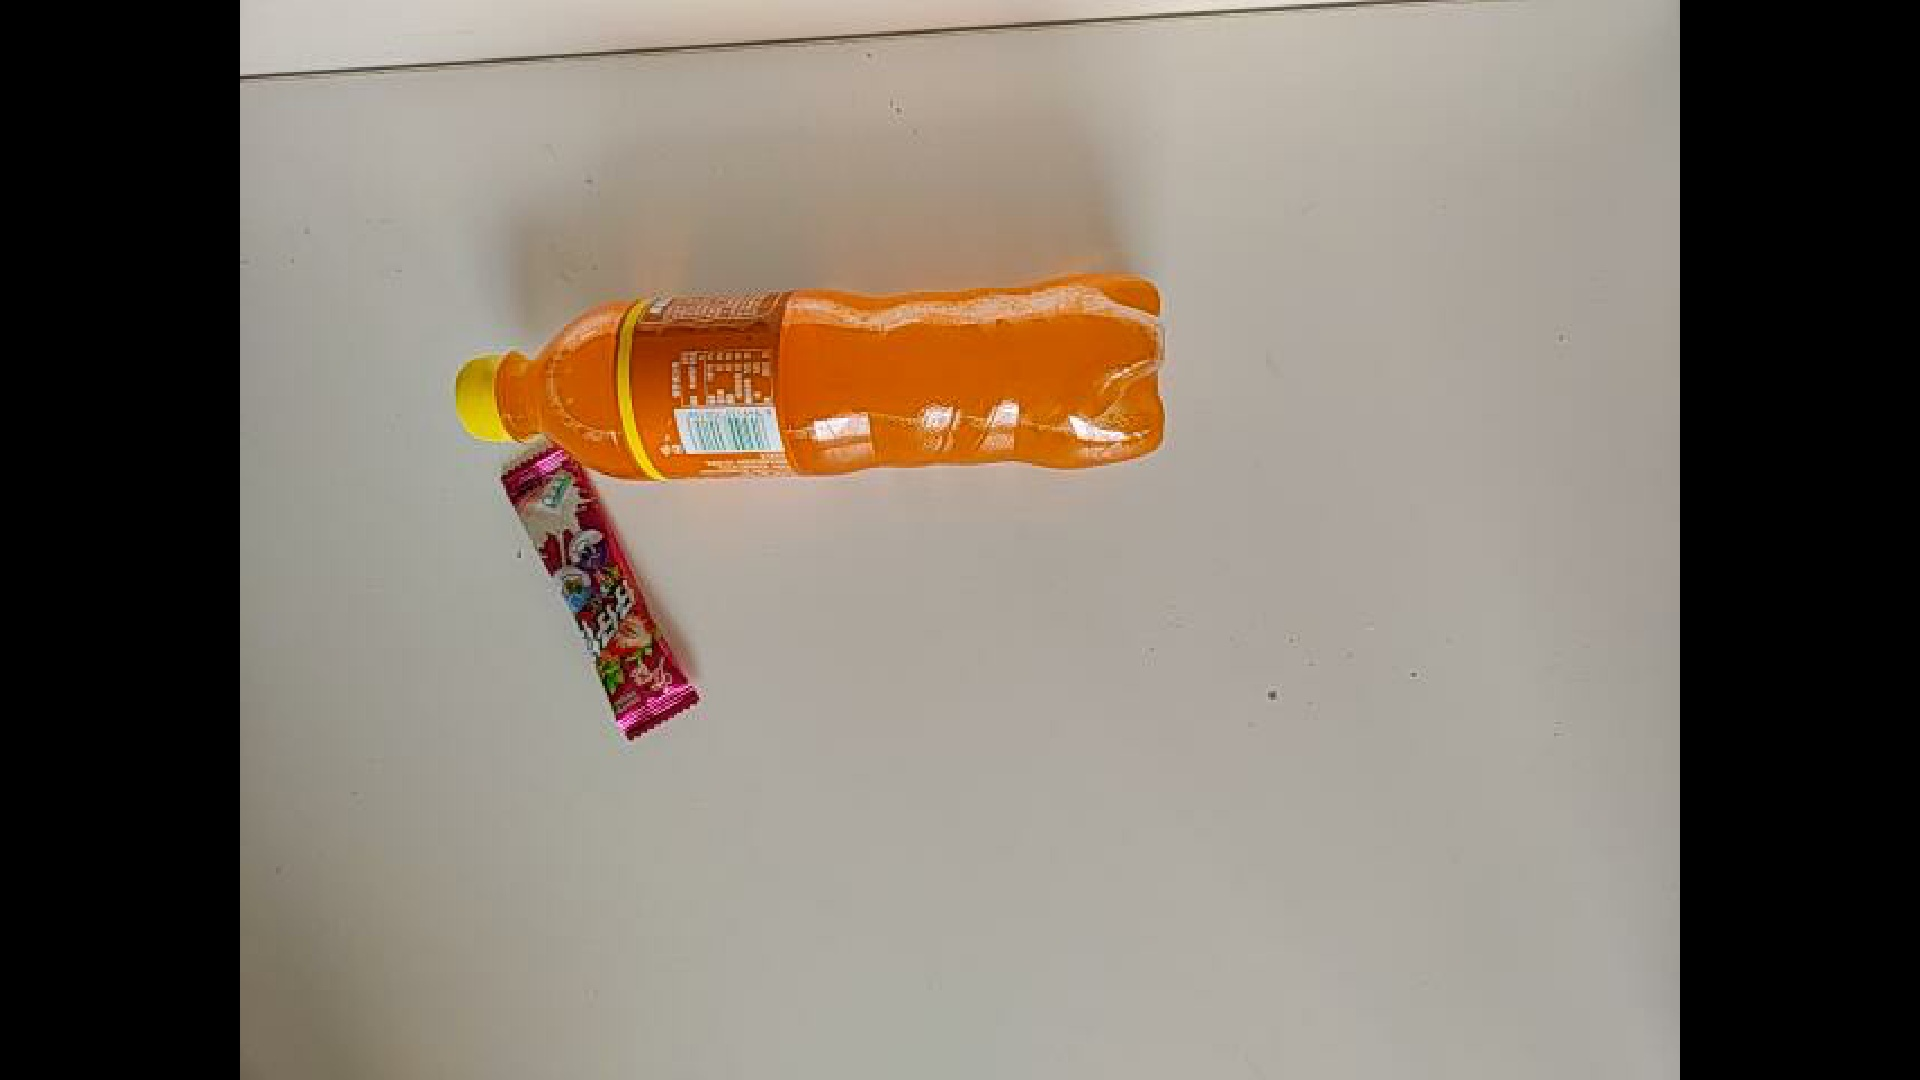fenta: (447, 282, 1182, 502)
sugar: (369, 435, 713, 725)
